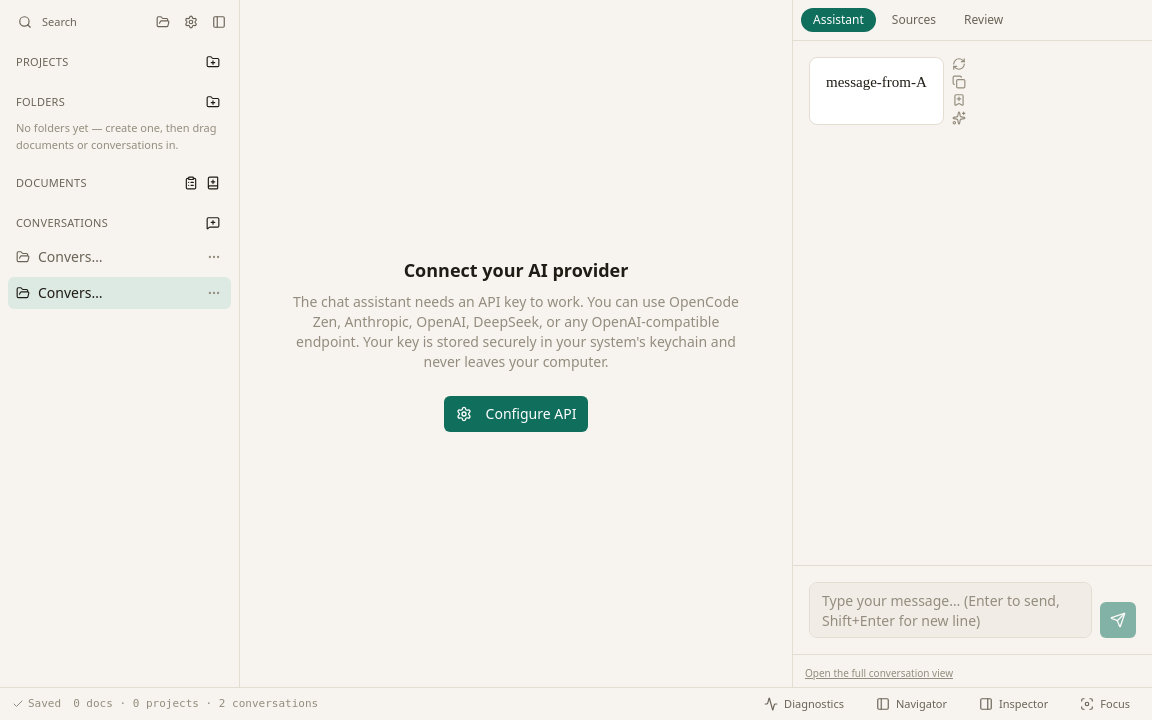
it: conversation navigation (B02) › Configure API opens the real Settings dialog instead of navigating away
Click the button "Configure API": point(516, 414) [444,396,588,432]
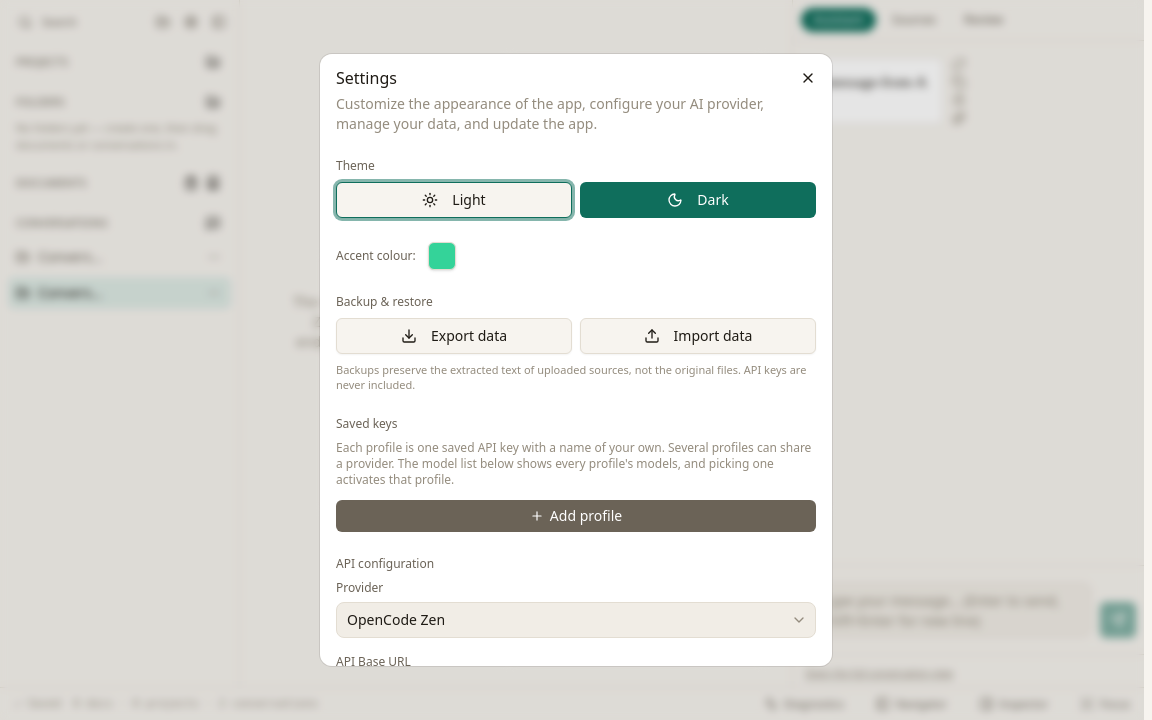
Expected: the dialog is shown, [320,54,832,666]
Expected: the text "Backup & restore" is shown, [336,293,433,310]
